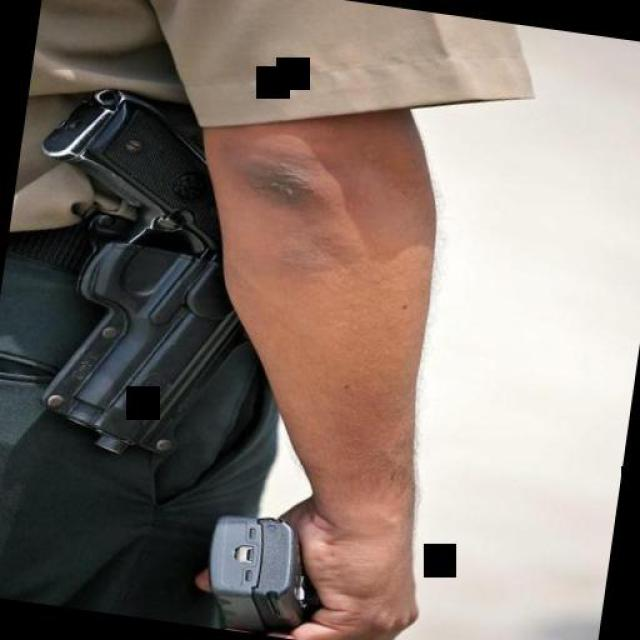gun: (0, 69, 288, 488)
